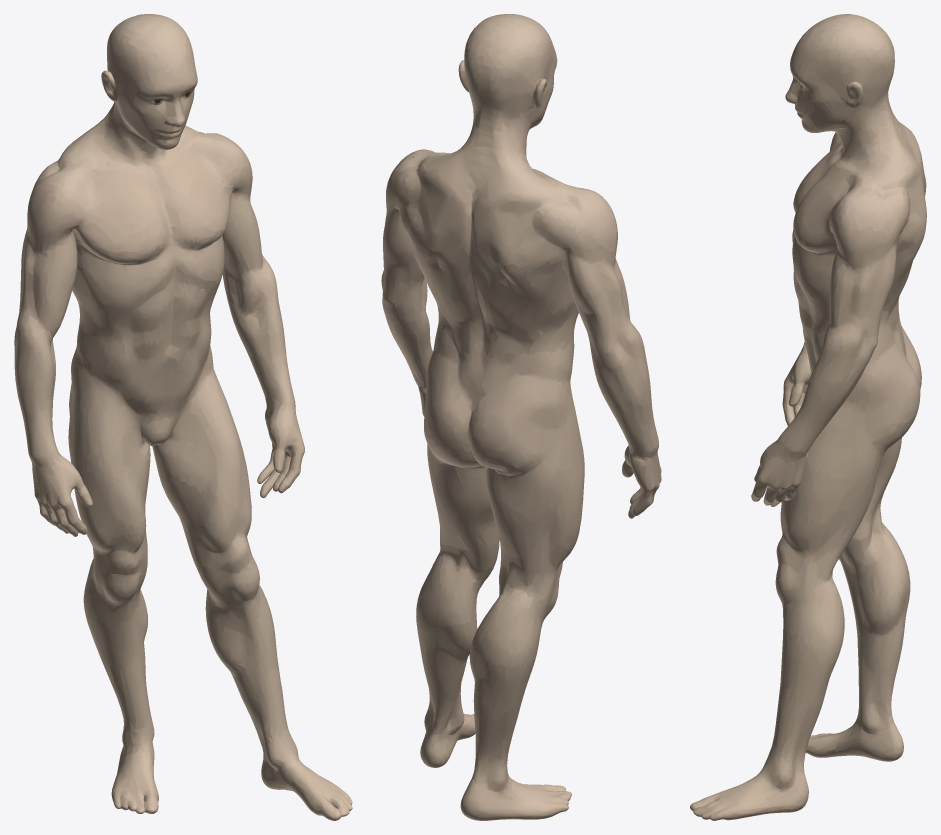
The model's file is seated_figure4_stretch.glb.
3 views of the same model, side by side, from view 1: azimuth 30°, elevation 25°; view 2: azimuth 150°, elevation 25°; view 3: azimuth 270°, elevation 25° (orthographic). The views are drawn at different scales.
Size of the model in its own units: 0.5169 by 1.43 by 0.411.
Materials: 1 (1 with a texture image).
